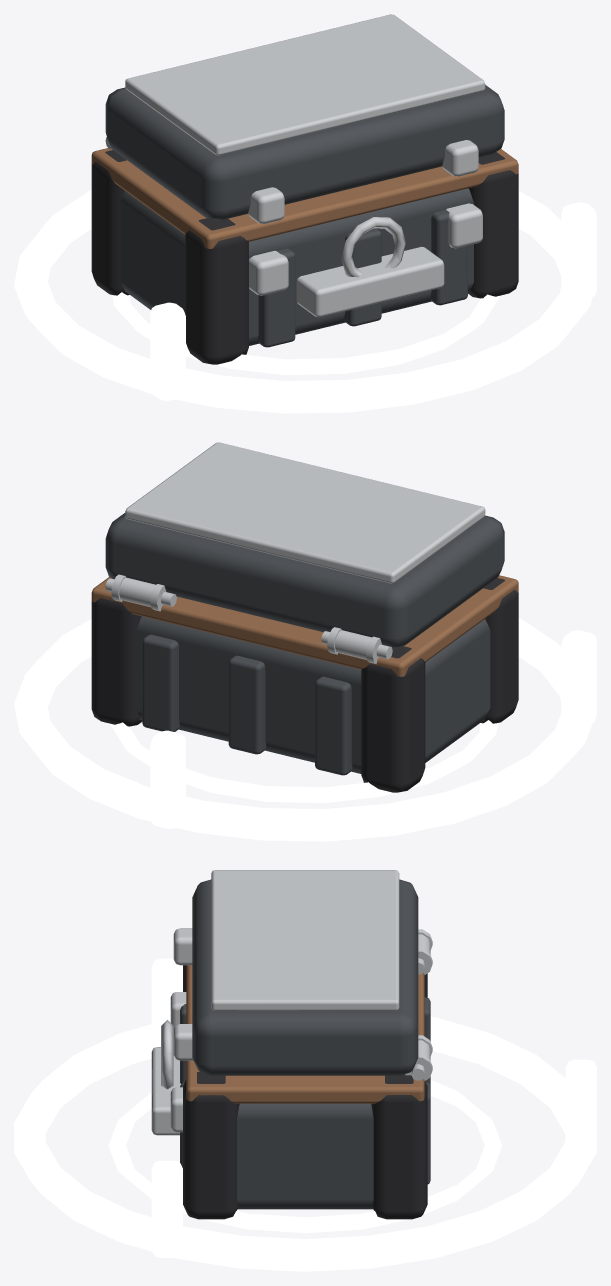
The model's file is fps-survival-forest-outpost-loot-cache-common-df93b08e__32658.glb.
The picture shows the model from 3 angles, top to bottom: view 1: azimuth 30°, elevation 25°; view 2: azimuth 150°, elevation 25°; view 3: azimuth 270°, elevation 25°; orthographic projection.
Parts seen in each view (by area): view 1: loot-cache-common, lid/steel, lid/gunmetal; view 2: loot-cache-common, lid/steel, lid/gunmetal; view 3: loot-cache-common, lid/steel, lid/gunmetal.
Boxes of the visible parts, x1,y1,x2,y2 form: loot-cache-common: [14, 137, 596, 413]; lid/steel: [125, 14, 485, 223]; lid/gunmetal: [105, 85, 504, 219]; loot-cache-common: [14, 574, 596, 841]; lid/steel: [125, 442, 485, 583]; lid/gunmetal: [105, 513, 504, 647]; loot-cache-common: [14, 929, 596, 1271]; lid/steel: [173, 870, 399, 1060]; lid/gunmetal: [192, 879, 418, 1075].
Bounding box in the file's own units: 0.936 × 0.385 × 0.9296.
